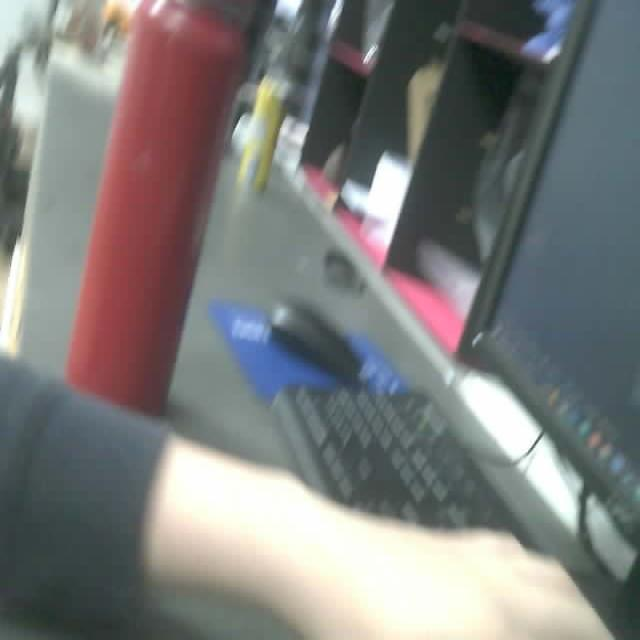water bottle: (63, 0, 276, 425)
